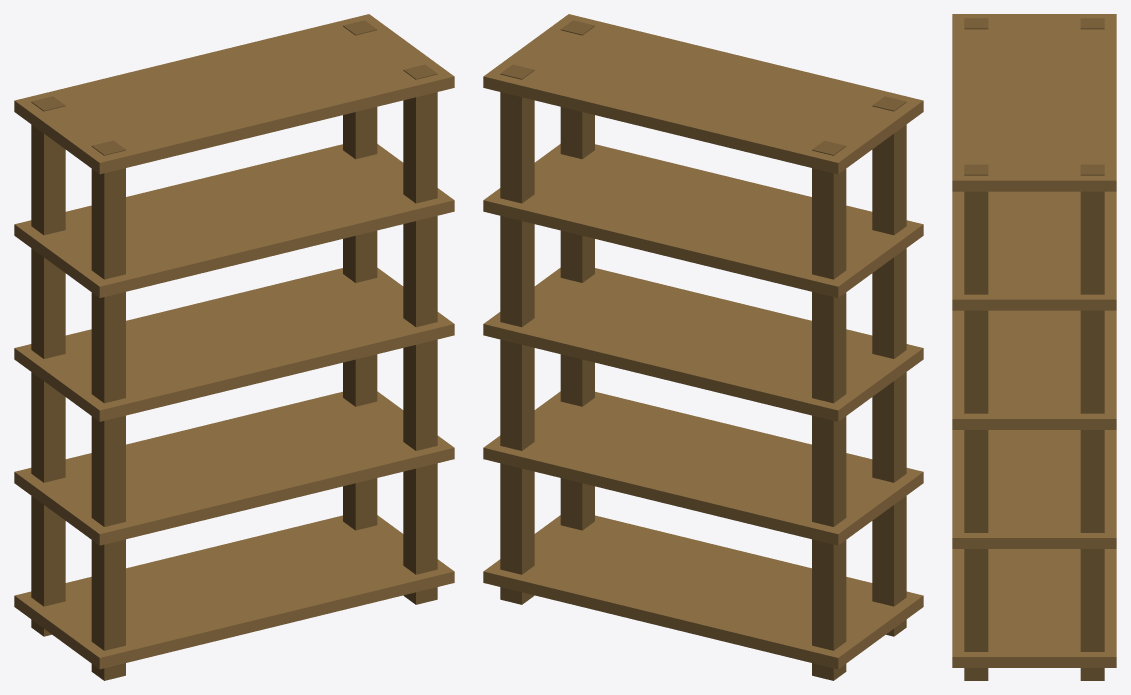
Rendered from Shelf.fbx.
3 views of the same model, side by side, from view 1: azimuth 30°, elevation 25°; view 2: azimuth 150°, elevation 25°; view 3: azimuth 270°, elevation 25° (orthographic). The views are drawn at different scales.
Visible parts, largest first — view 1: Shelf; view 2: Shelf; view 3: Shelf.
Boxes of the visible parts, box(x1,y1,x2,y2) form: Shelf: box(14, 14, 454, 680); Shelf: box(483, 14, 923, 680); Shelf: box(952, 14, 1116, 680).
Size of the model in its own units: 120 by 170 by 50.
